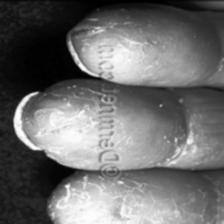Non-Cancerous Skin Condition: (59, 184, 224, 224), (88, 6, 224, 46), (22, 86, 92, 154)
